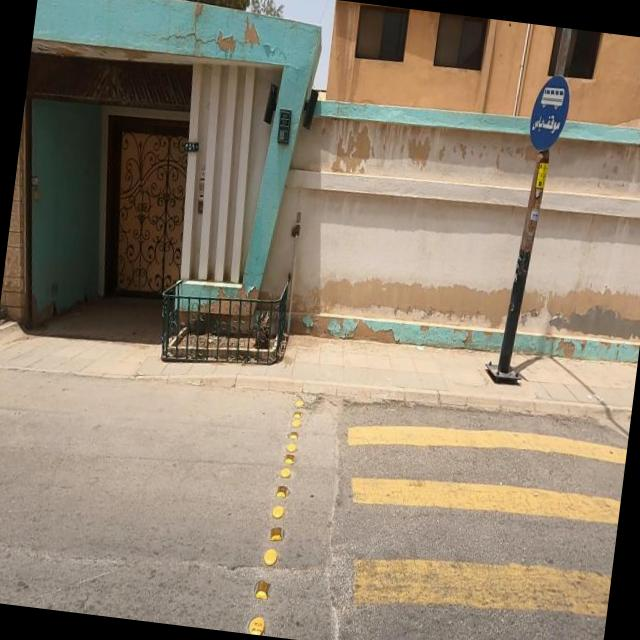debris: (222, 166, 576, 420), (226, 46, 514, 254), (469, 168, 640, 422), (148, 0, 290, 96)
